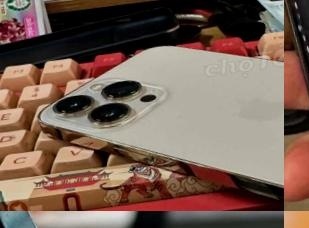physical_damage: (0, 211, 64, 228)
scratch: (284, 0, 309, 107)
